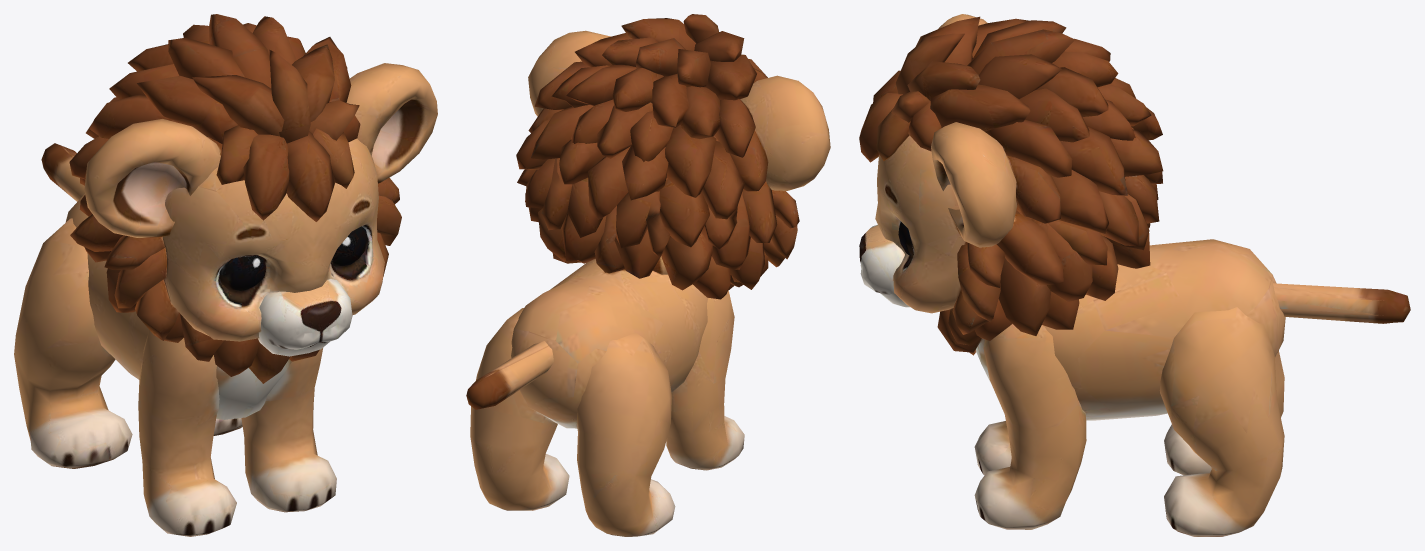
The model's file is toy-lion.prefab.glb.
3 renders of one model, left to right at view 1: azimuth 30°, elevation 25°; view 2: azimuth 150°, elevation 25°; view 3: azimuth 270°, elevation 25°, orthographic. The views are drawn at different scales.
Visible parts, largest first — view 1: Prize_Batch0; view 2: Prize_Batch0; view 3: Prize_Batch0.
Boxes of the visible parts, x1,y1,x2,y2 form: Prize_Batch0: [14, 14, 437, 536]; Prize_Batch0: [466, 14, 830, 536]; Prize_Batch0: [859, 14, 1410, 536].
Size of the model in its own units: 0.0222 by 0.0295 by 0.032.
1 material, 1 textured.
